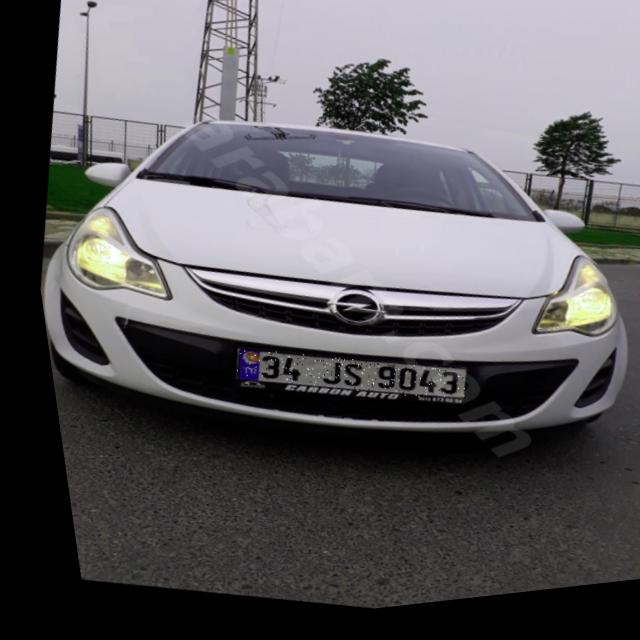license_plate: (219, 332, 458, 430)
